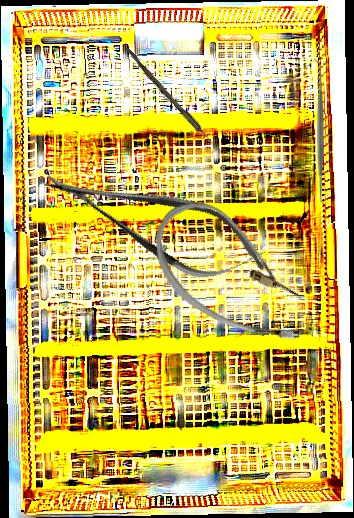Cannula: (132, 186, 335, 362)
Micro Scissor: (32, 142, 279, 302)
Spatula Surgical: (312, 59, 328, 205)
Surgical Spoon: (122, 46, 230, 161)
